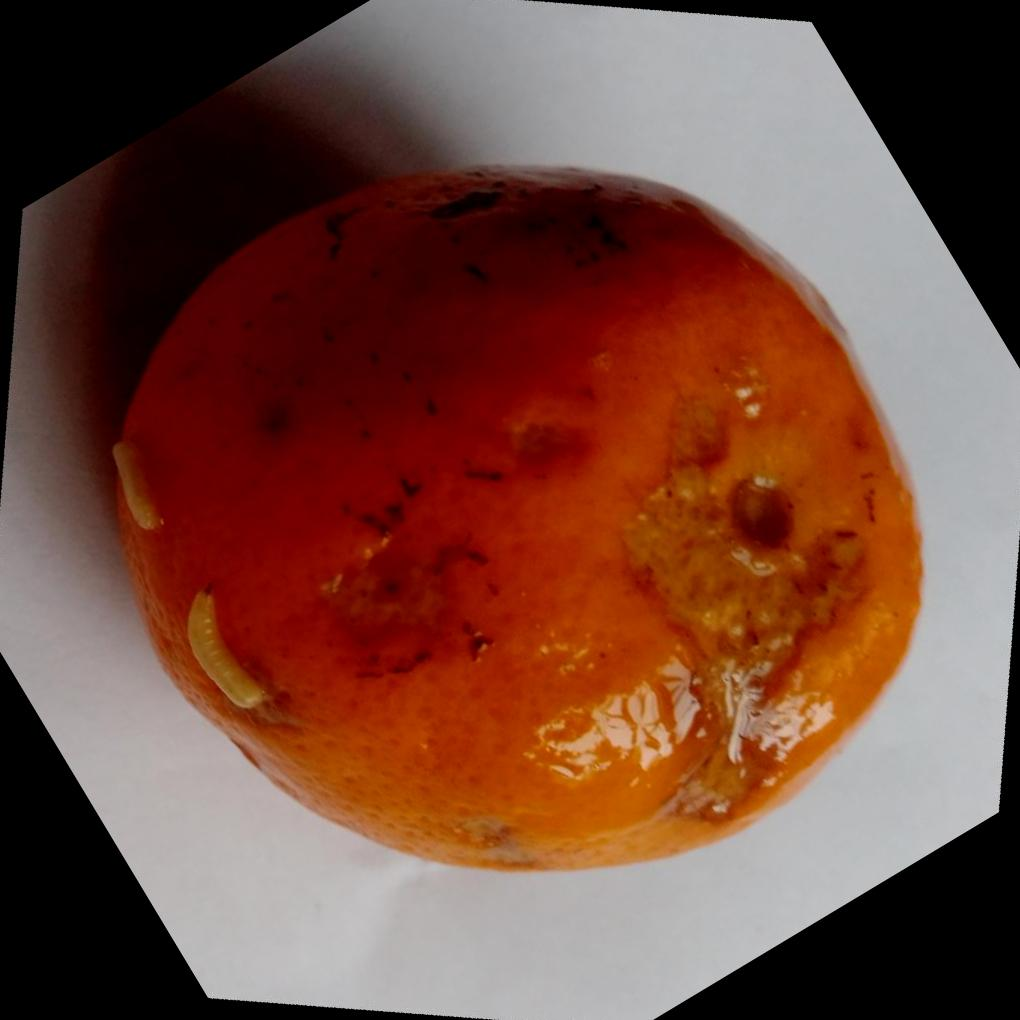FreshOrange: (108, 164, 929, 877)
